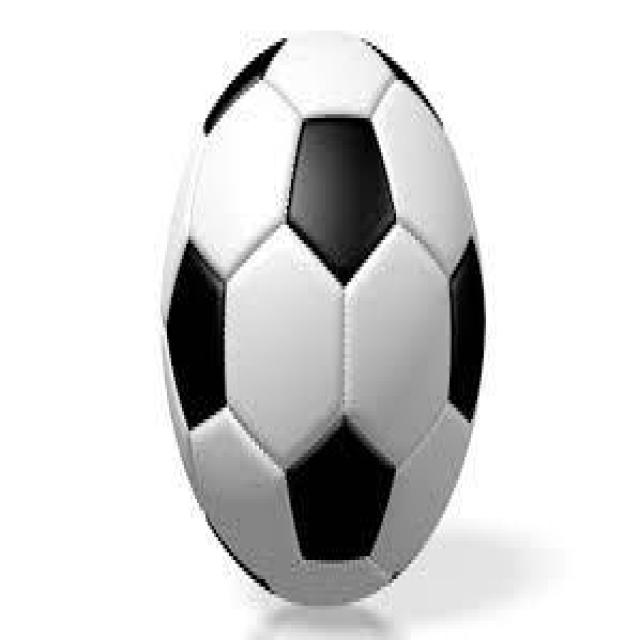Soccer Ball: (162, 27, 483, 606)
